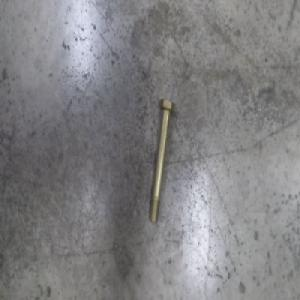Bolt: (148, 97, 175, 225)
